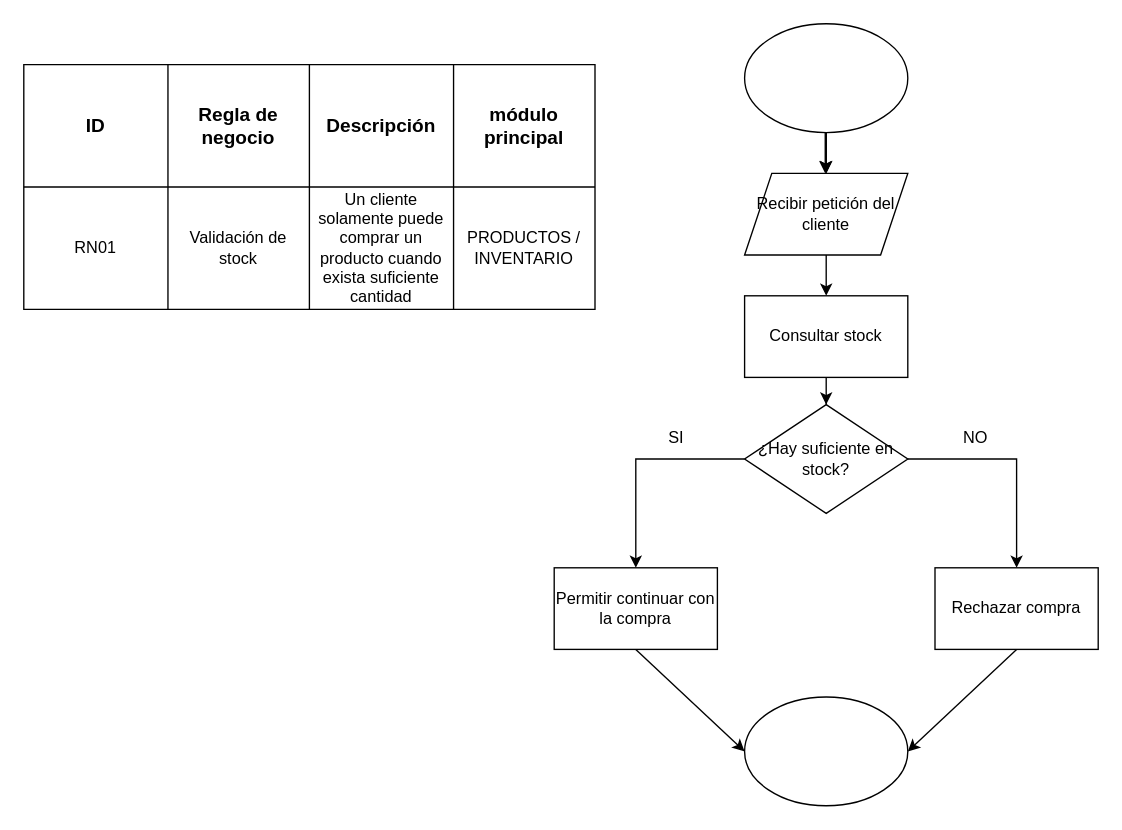
This 1122x830 diagram has some shape labels left out. Here are the shapes that lost their labels. From the top down, the centre of each, then its label:
(x=825, y=77): INICIO
(x=825, y=751): FIN
